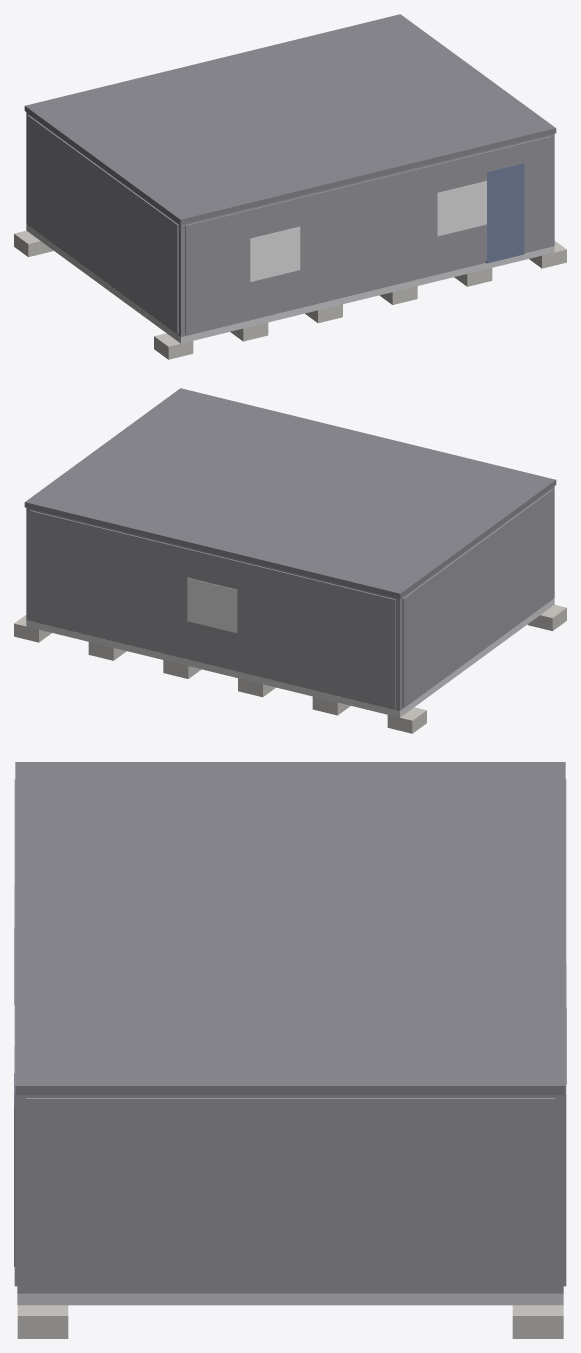
File: Studio-30-Base-AncientWallGrey-LOD2.glb
3 views of the same model, one above another, from view 1: azimuth 30°, elevation 25°; view 2: azimuth 150°, elevation 25°; view 3: azimuth 270°, elevation 25° (orthographic). The views are drawn at different scales.
Visible parts, largest first — view 1: RoofMain, ExteriorPanelsStandard, WindowsStandard, BaseFrame, FoundationBlocks, ExteriorShell, EntryDoor; view 2: RoofMain, ExteriorPanelsStandard, BaseFrame, ExteriorShell, FoundationBlocks, WindowsStandard; view 3: RoofMain, ExteriorPanelsStandard, BaseFrame, ExteriorShell, FoundationBlocks.
Part boxes in pixels (<box>): RoofMain: <box>24,14,556,224</box>; ExteriorPanelsStandard: <box>27,115,550,334</box>; WindowsStandard: <box>250,181,486,281</box>; BaseFrame: <box>26,224,554,343</box>; FoundationBlocks: <box>14,230,566,359</box>; ExteriorShell: <box>26,112,554,336</box>; EntryDoor: <box>486,163,524,263</box>; RoofMain: <box>24,388,556,598</box>; ExteriorPanelsStandard: <box>30,489,553,708</box>; BaseFrame: <box>26,598,554,717</box>; ExteriorShell: <box>26,486,554,710</box>; FoundationBlocks: <box>14,604,566,733</box>; WindowsStandard: <box>187,577,237,633</box>; RoofMain: <box>15,762,565,1094</box>; ExteriorPanelsStandard: <box>14,779,566,1290</box>; BaseFrame: <box>17,1293,563,1305</box>; ExteriorShell: <box>17,1095,563,1293</box>; FoundationBlocks: <box>17,1305,563,1338</box>.
Bounding box in the file's own units: 9.6 × 3.17 × 6.53.
